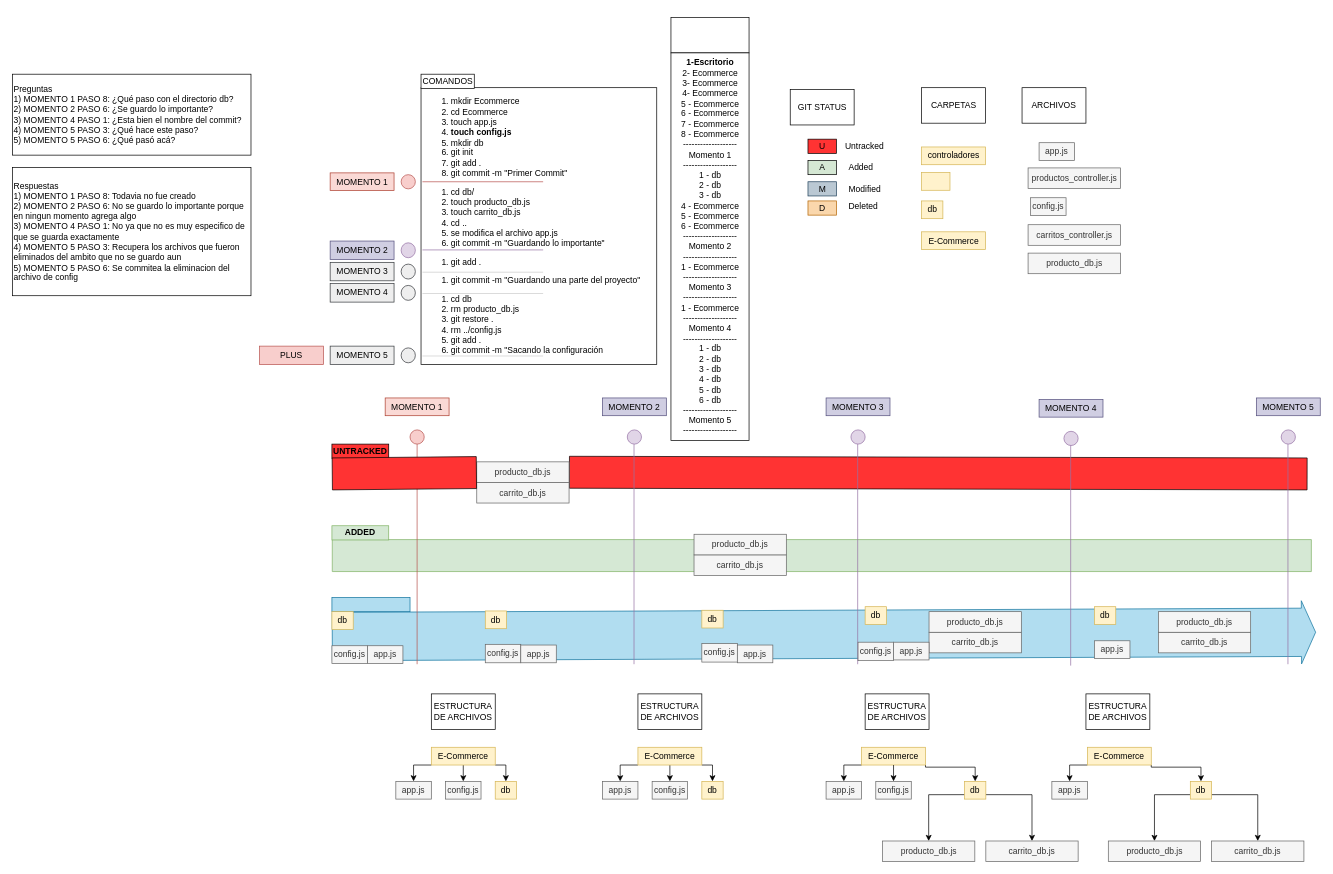
Image size: 1333x874. Some labels were removed from this diagram. The shapes that lost their labels are listed below. From the top down, each one's centre as x and y in pixels, then its label:
At (x=709, y=35): "DONDE ESTA PARADA LA TERMINAL".
At (x=935, y=181): "rutas".
At (x=370, y=604): "RAMA PRINCIPAL".
